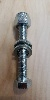FinishedAssembly: (11, 11, 38, 93)
